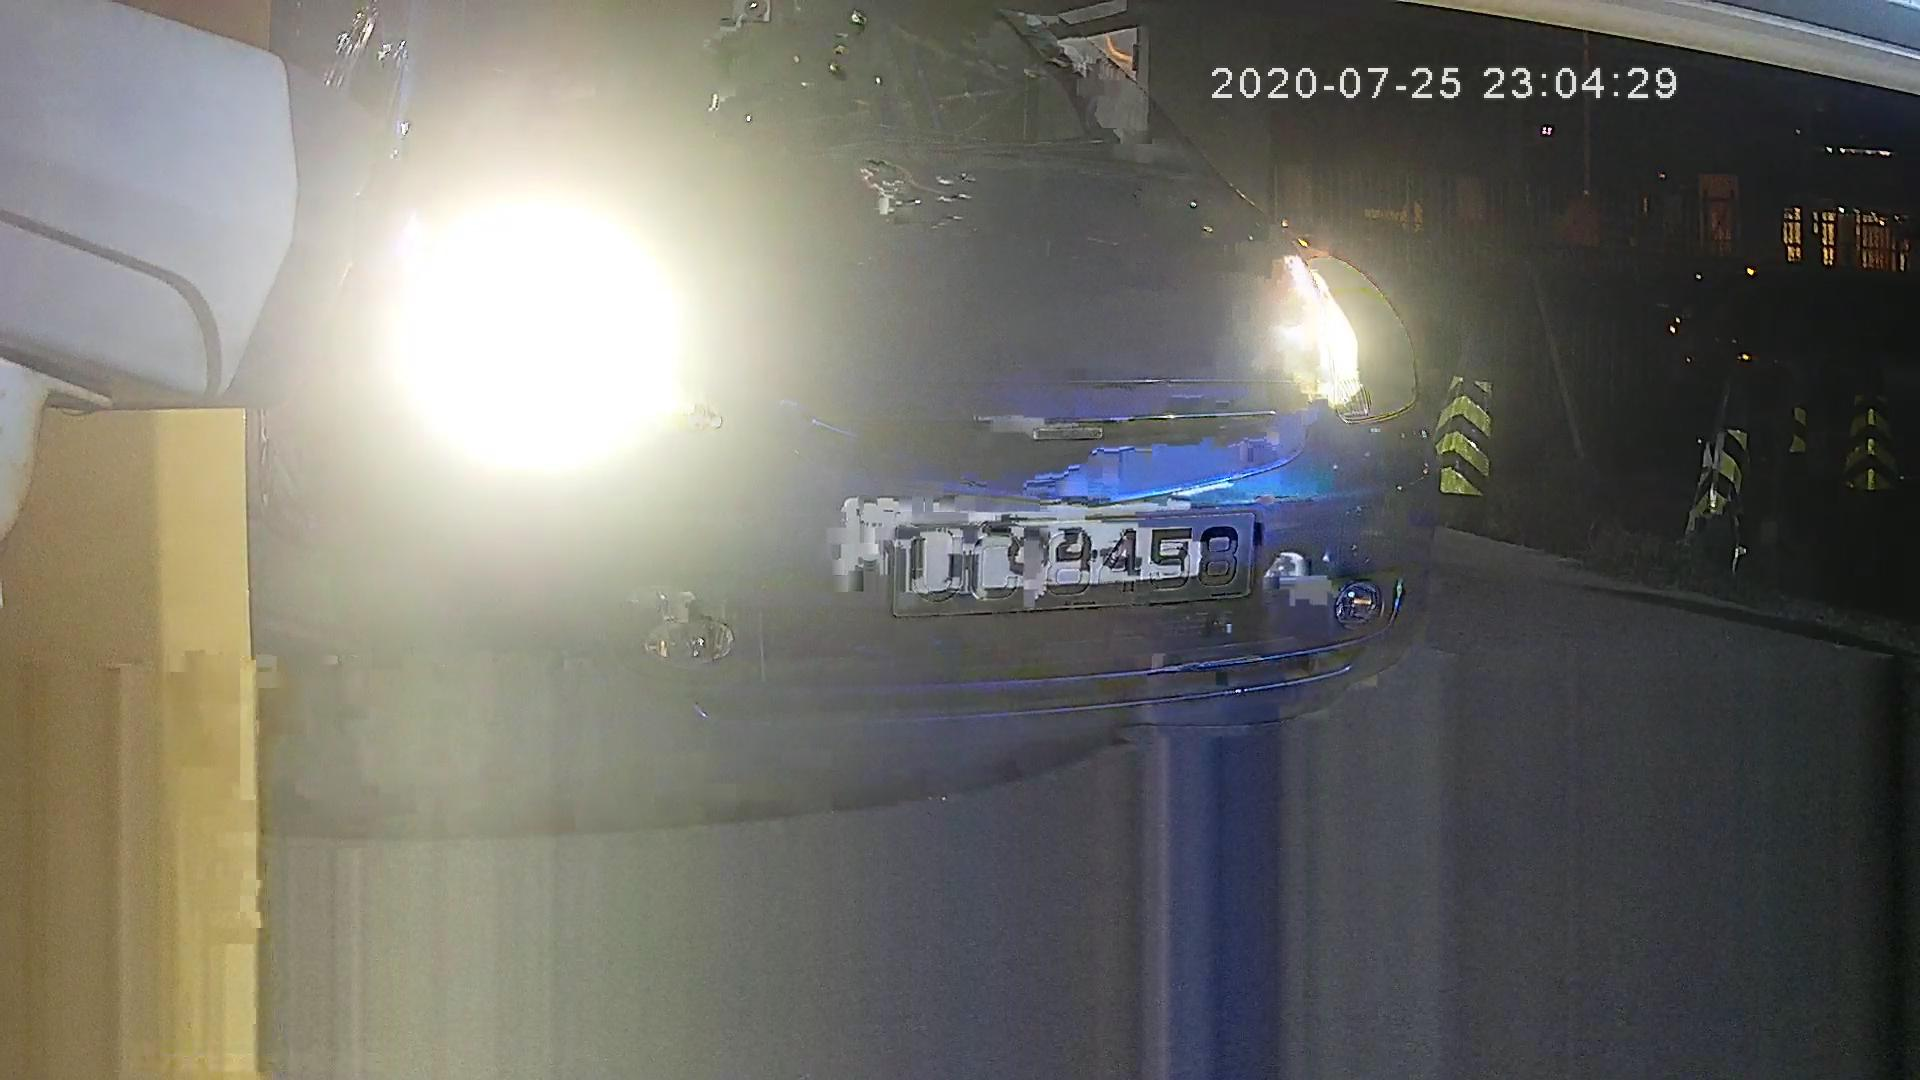Car: (1, 58, 1518, 902)
License Plate: (841, 487, 1226, 613)
